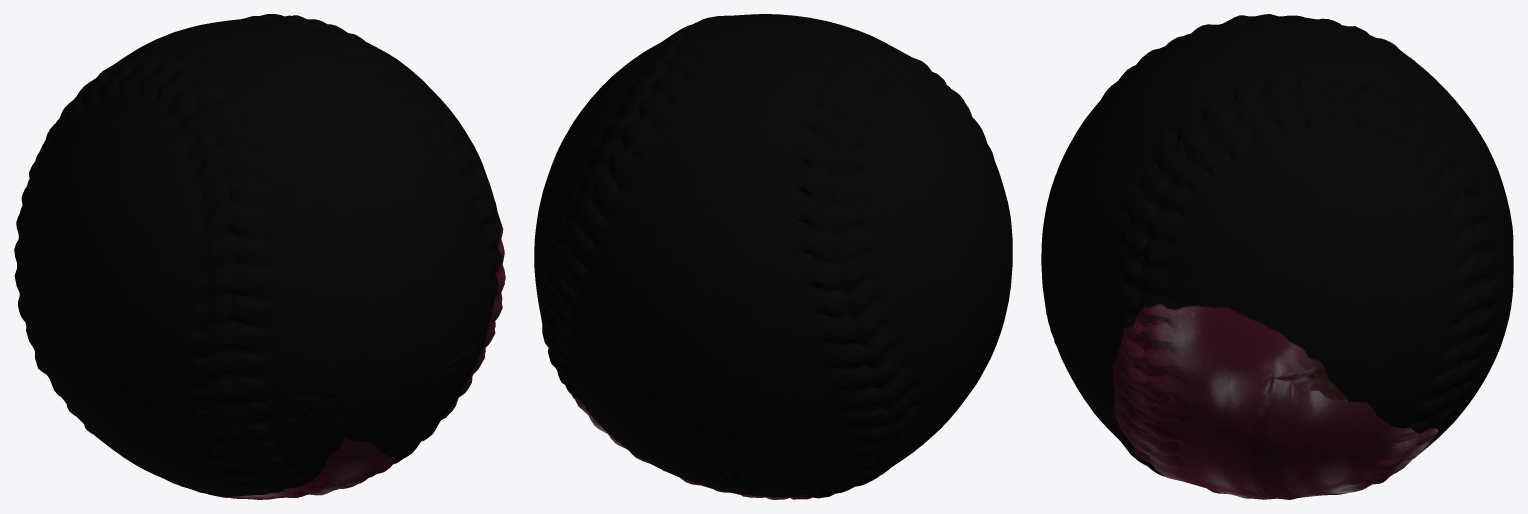
3 views of the same model, side by side, from view 1: azimuth 30°, elevation 25°; view 2: azimuth 150°, elevation 25°; view 3: azimuth 270°, elevation 25° (orthographic).
Visible parts, largest first — view 1: node; view 2: node; view 3: node.
Part boxes in pixels (box(x1,y1,x2,y2)): node: box(14, 14, 505, 499); node: box(534, 14, 1012, 499); node: box(1041, 14, 1513, 499).
Bounding box in the file's own units: 0.0954 × 0.0962 × 0.0946.
